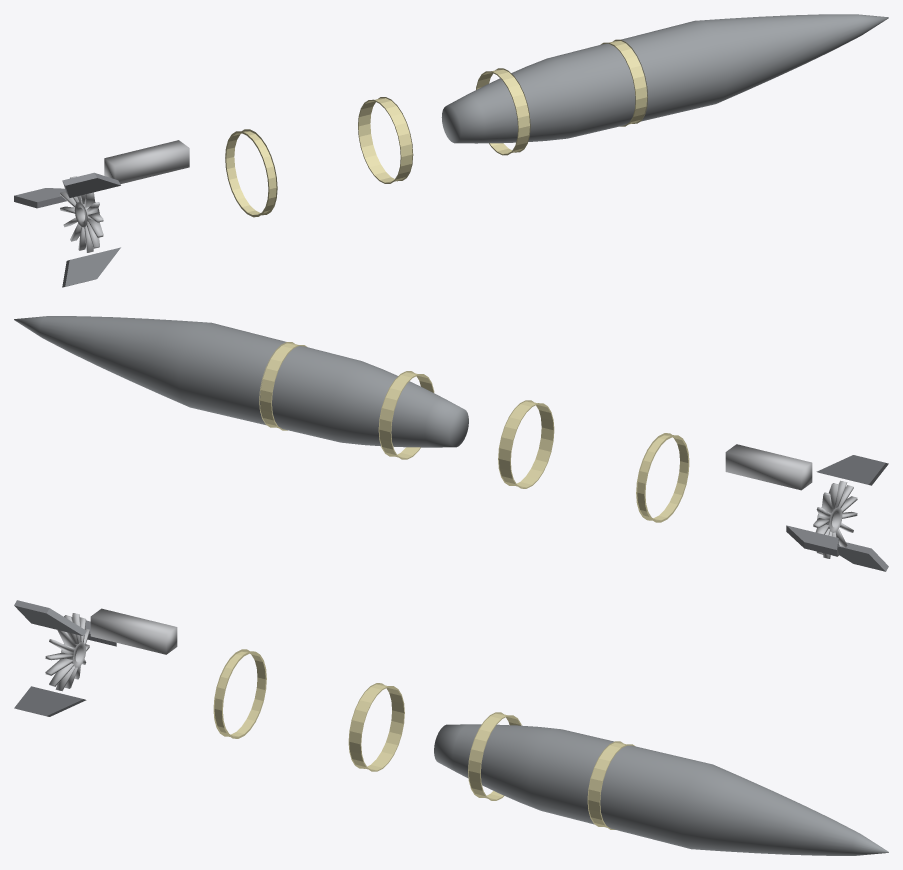
The model's file is RU_TORP_UGST_LOD1.fbx.
The picture shows the model from 3 angles, top to bottom: view 1: azimuth 30°, elevation 25°; view 2: azimuth 150°, elevation 25°; view 3: azimuth 330°, elevation 25°; orthographic projection.
Parts seen in each view (by area): view 1: WPN_RU_TORP_UGST_LOD1_Body, WPN_RU_TORP_UGST_LOD1_Marking, WPN_RU_TORP_UGST_LOD1_Fins, WPN_RU_TORP_UGST_LOD1_Detail, WPN_RU_TORP_UGST_LOD1_Propulsor; view 2: WPN_RU_TORP_UGST_LOD1_Body, WPN_RU_TORP_UGST_LOD1_Marking, WPN_RU_TORP_UGST_LOD1_Fins, WPN_RU_TORP_UGST_LOD1_Detail, WPN_RU_TORP_UGST_LOD1_Propulsor; view 3: WPN_RU_TORP_UGST_LOD1_Body, WPN_RU_TORP_UGST_LOD1_Marking, WPN_RU_TORP_UGST_LOD1_Detail, WPN_RU_TORP_UGST_LOD1_Fins, WPN_RU_TORP_UGST_LOD1_Propulsor.
Boxes of the visible parts, left/top/right/bottom form: WPN_RU_TORP_UGST_LOD1_Body: left=441, top=14, right=888, bottom=143; WPN_RU_TORP_UGST_LOD1_Marking: left=225, top=39, right=647, bottom=217; WPN_RU_TORP_UGST_LOD1_Fins: left=14, top=172, right=120, bottom=287; WPN_RU_TORP_UGST_LOD1_Detail: left=104, top=140, right=189, bottom=184; WPN_RU_TORP_UGST_LOD1_Propulsor: left=60, top=176, right=103, bottom=252; WPN_RU_TORP_UGST_LOD1_Body: left=14, top=316, right=468, bottom=447; WPN_RU_TORP_UGST_LOD1_Marking: left=259, top=342, right=689, bottom=522; WPN_RU_TORP_UGST_LOD1_Fins: left=786, top=455, right=888, bottom=571; WPN_RU_TORP_UGST_LOD1_Detail: left=725, top=444, right=812, bottom=490; WPN_RU_TORP_UGST_LOD1_Propulsor: left=813, top=480, right=857, bottom=558; WPN_RU_TORP_UGST_LOD1_Body: left=434, top=724, right=888, bottom=855; WPN_RU_TORP_UGST_LOD1_Marking: left=213, top=649, right=635, bottom=829; WPN_RU_TORP_UGST_LOD1_Detail: left=90, top=608, right=177, bottom=654; WPN_RU_TORP_UGST_LOD1_Fins: left=14, top=600, right=116, bottom=716; WPN_RU_TORP_UGST_LOD1_Propulsor: left=45, top=613, right=89, bottom=691.
Size of the model in its own units: 6.02 by 0.6853 by 0.7328.
